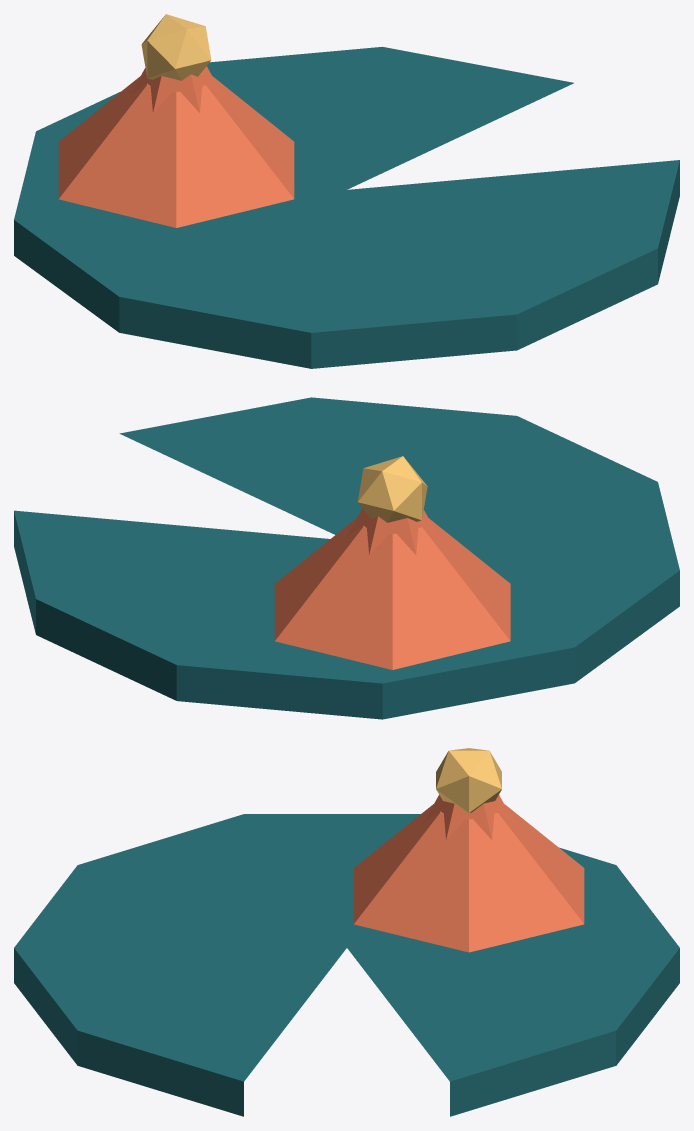
File: lotus.glb
The picture shows the model from 3 angles, top to bottom: view 1: azimuth 30°, elevation 25°; view 2: azimuth 150°, elevation 25°; view 3: azimuth 270°, elevation 25°; orthographic projection. The views are drawn at different scales.
Parts seen in each view (by area): view 1: Pad, PetalsOut, Heart, PetalsIn; view 2: Pad, PetalsOut, Heart, PetalsIn; view 3: Pad, PetalsOut, Heart, PetalsIn.
Boxes of the visible parts, x1,y1,x2,y2 form: Pad: (14,46,679,368); PetalsOut: (58,76,294,227); Heart: (141,14,211,80); PetalsIn: (130,66,222,112); Pad: (14,397,679,719); PetalsOut: (274,518,510,669); Heart: (358,456,427,522); PetalsIn: (346,508,439,554); Pad: (14,814,679,1116); PetalsOut: (353,804,584,952); Heart: (436,748,501,812); PetalsIn: (423,795,514,839).
Bounding box in the file's own units: 1.14 × 0.3595 × 1.2.
